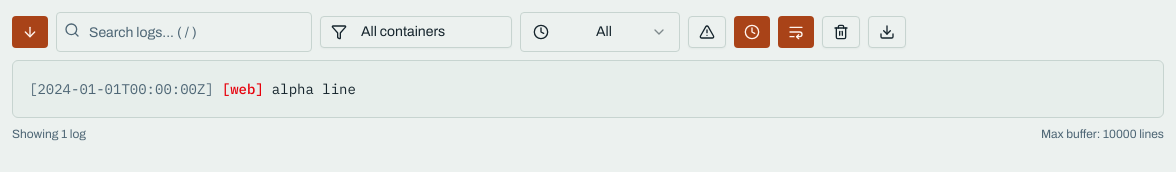
LogViewer › clears the log buffer when the clear button is clicked
Check: the text "alpha line" is shown, box [272,80,356,98]
Click the button titled "Clear logs": x=841, y=32 [822,16,860,48]
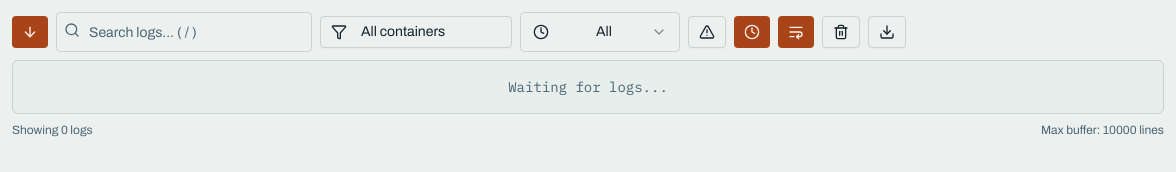
Check: the text "alpha line" is gone
Check: the text "Waiting for logs..." is shown, box [508,78,668,96]
